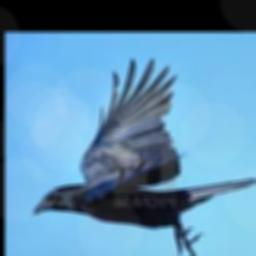Crow: (31, 57, 256, 256)
